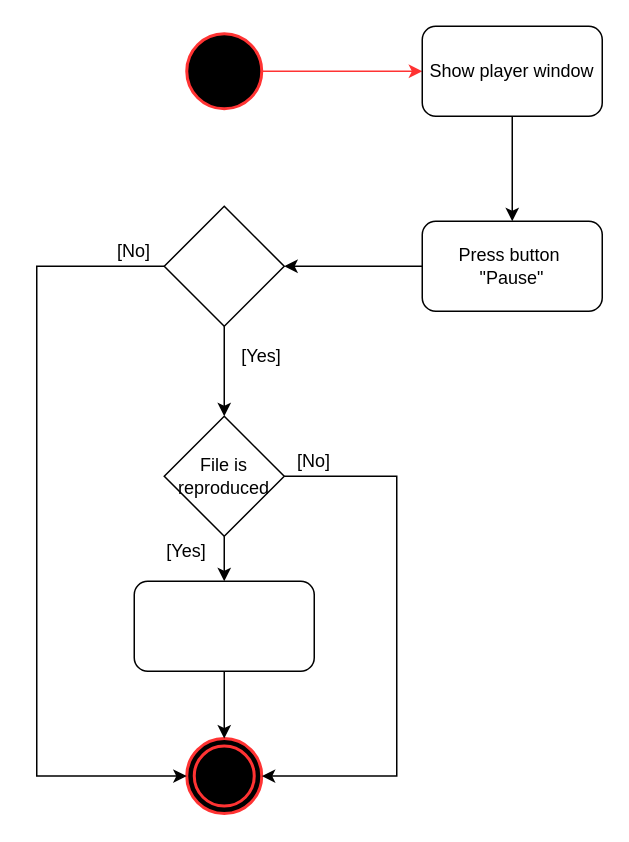
This 629x842 diagram has some shape labels left out. The centre of each missing label's shape, as x and y in pixels:
"File selected" goes at pixel 223 265.
"Pause playback" goes at pixel 223 625.
